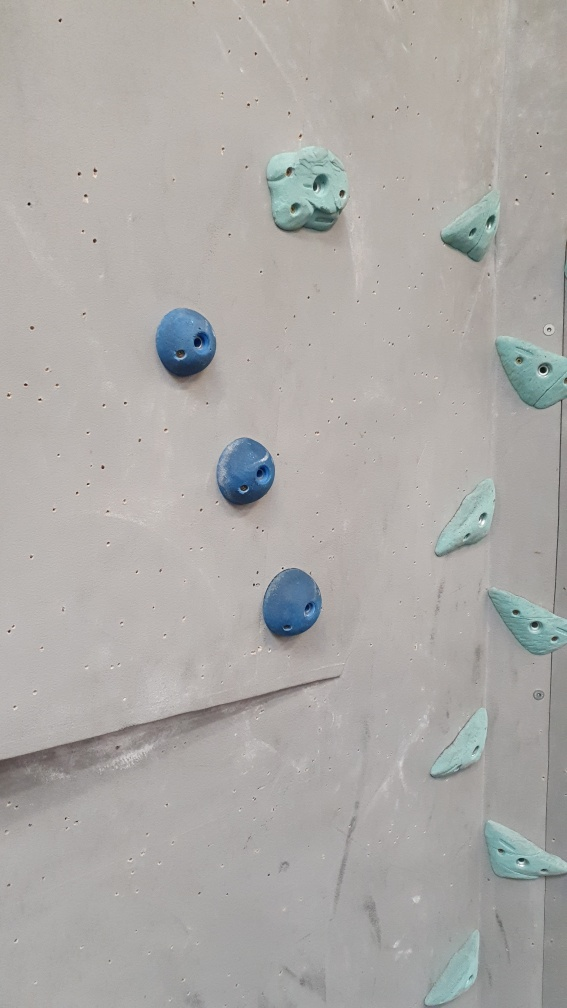Crimp: (424, 474, 504, 563), (475, 815, 567, 891), (484, 577, 567, 660), (491, 326, 567, 410), (437, 180, 504, 272), (425, 699, 493, 788), (416, 928, 480, 1008)
Sloper: (153, 303, 223, 385), (262, 563, 328, 639), (213, 431, 278, 503)
